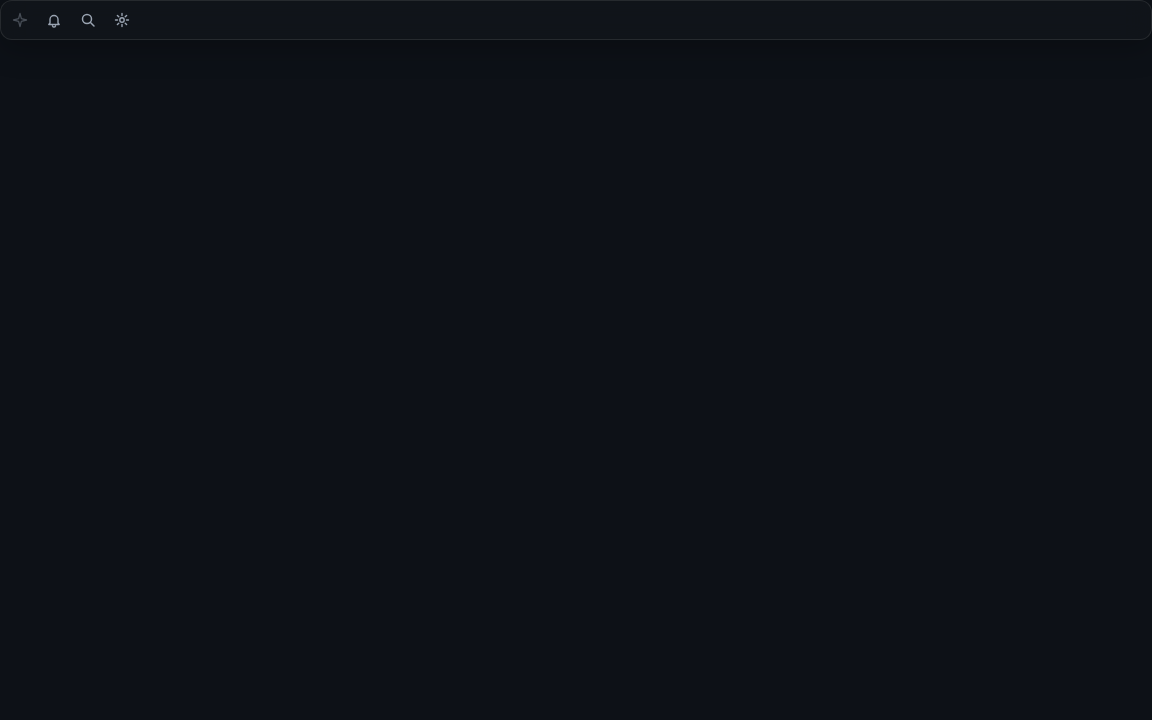
TopRight: settings › opens a small panel with the pixel ratio cap and Show FPS
Click the button named "Settings".
click(122, 20)  # box left=106, top=4, right=138, bottom=36
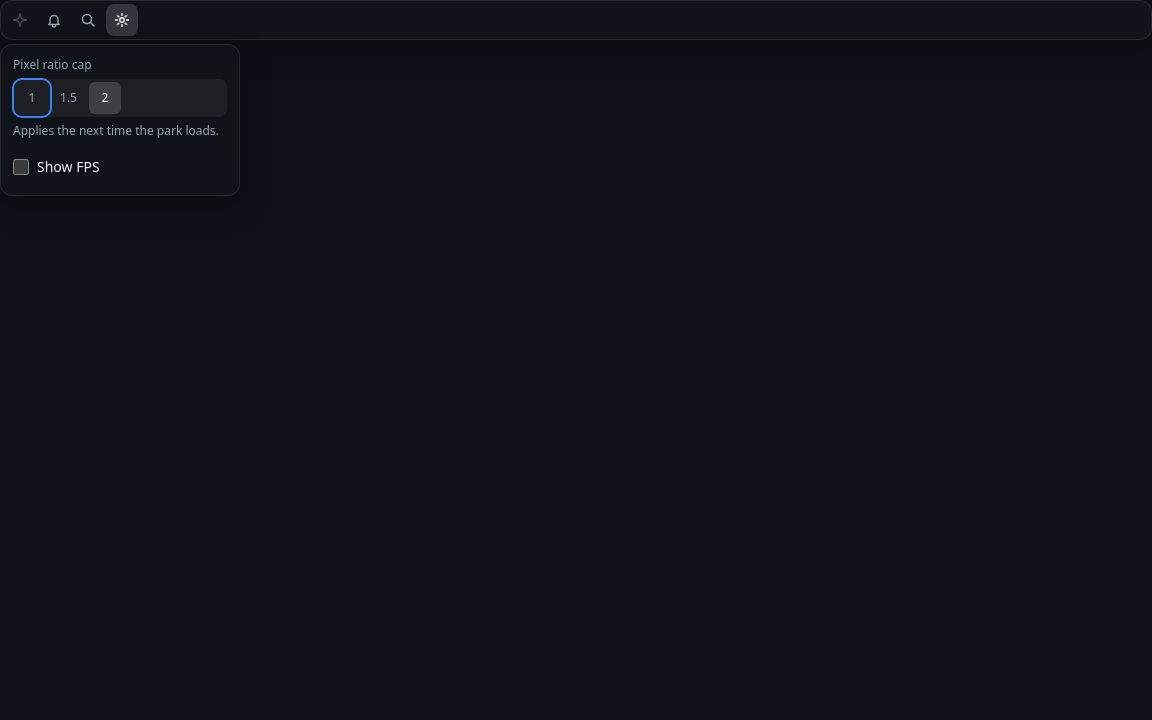
Check: the buttons read "1", "1.5", "2", in this order, box left=16, top=82, right=48, bottom=114; left=50, top=82, right=87, bottom=114; left=89, top=82, right=121, bottom=114
Check: the checkbox labelled "Show FPS" is shown, box left=13, top=159, right=29, bottom=175
